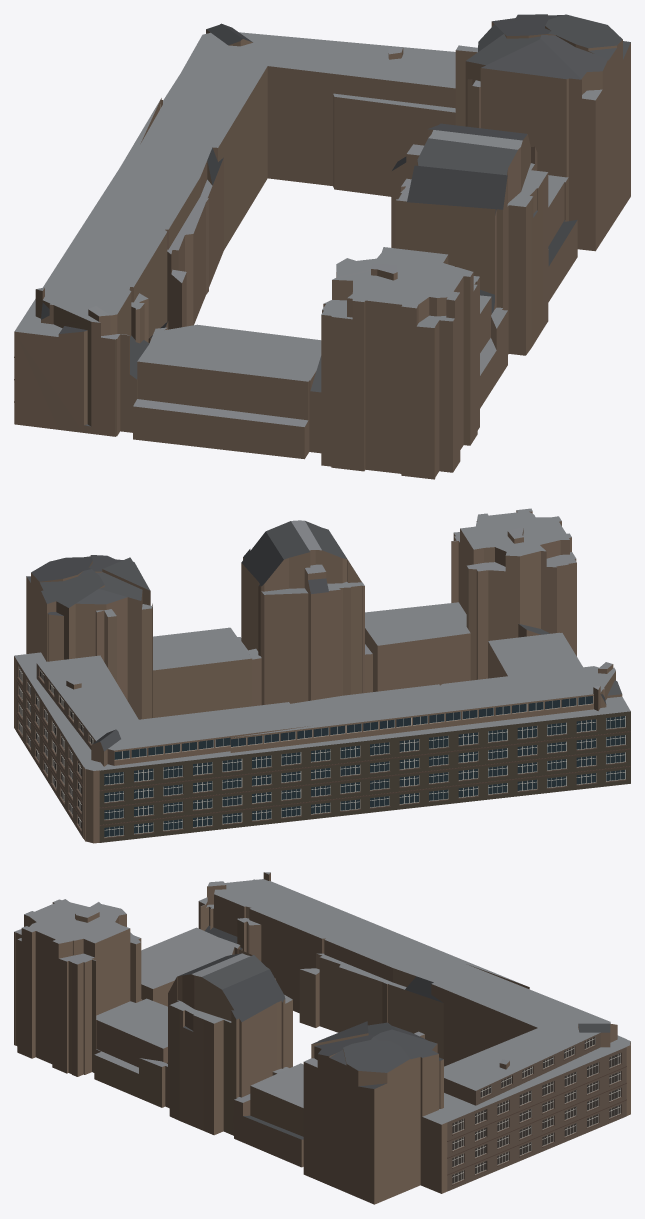
The model's file is recipe-large-louise-wentstraat-230-165821.glb.
3 views of the same model, one above another, from view 1: azimuth 30°, elevation 25°; view 2: azimuth 150°, elevation 25°; view 3: azimuth 270°, elevation 25° (orthographic). The views are drawn at different scales.
Parts seen in each view (by area): view 1: louise-wentstraat-230-165821; view 2: louise-wentstraat-230-165821; view 3: louise-wentstraat-230-165821.
Boxes of the visible parts, x1,y1,x2,y2 form: louise-wentstraat-230-165821: [14, 14, 630, 479]; louise-wentstraat-230-165821: [14, 508, 630, 843]; louise-wentstraat-230-165821: [14, 872, 630, 1204].
Size of the model in its own units: 101 by 26.98 by 103.
